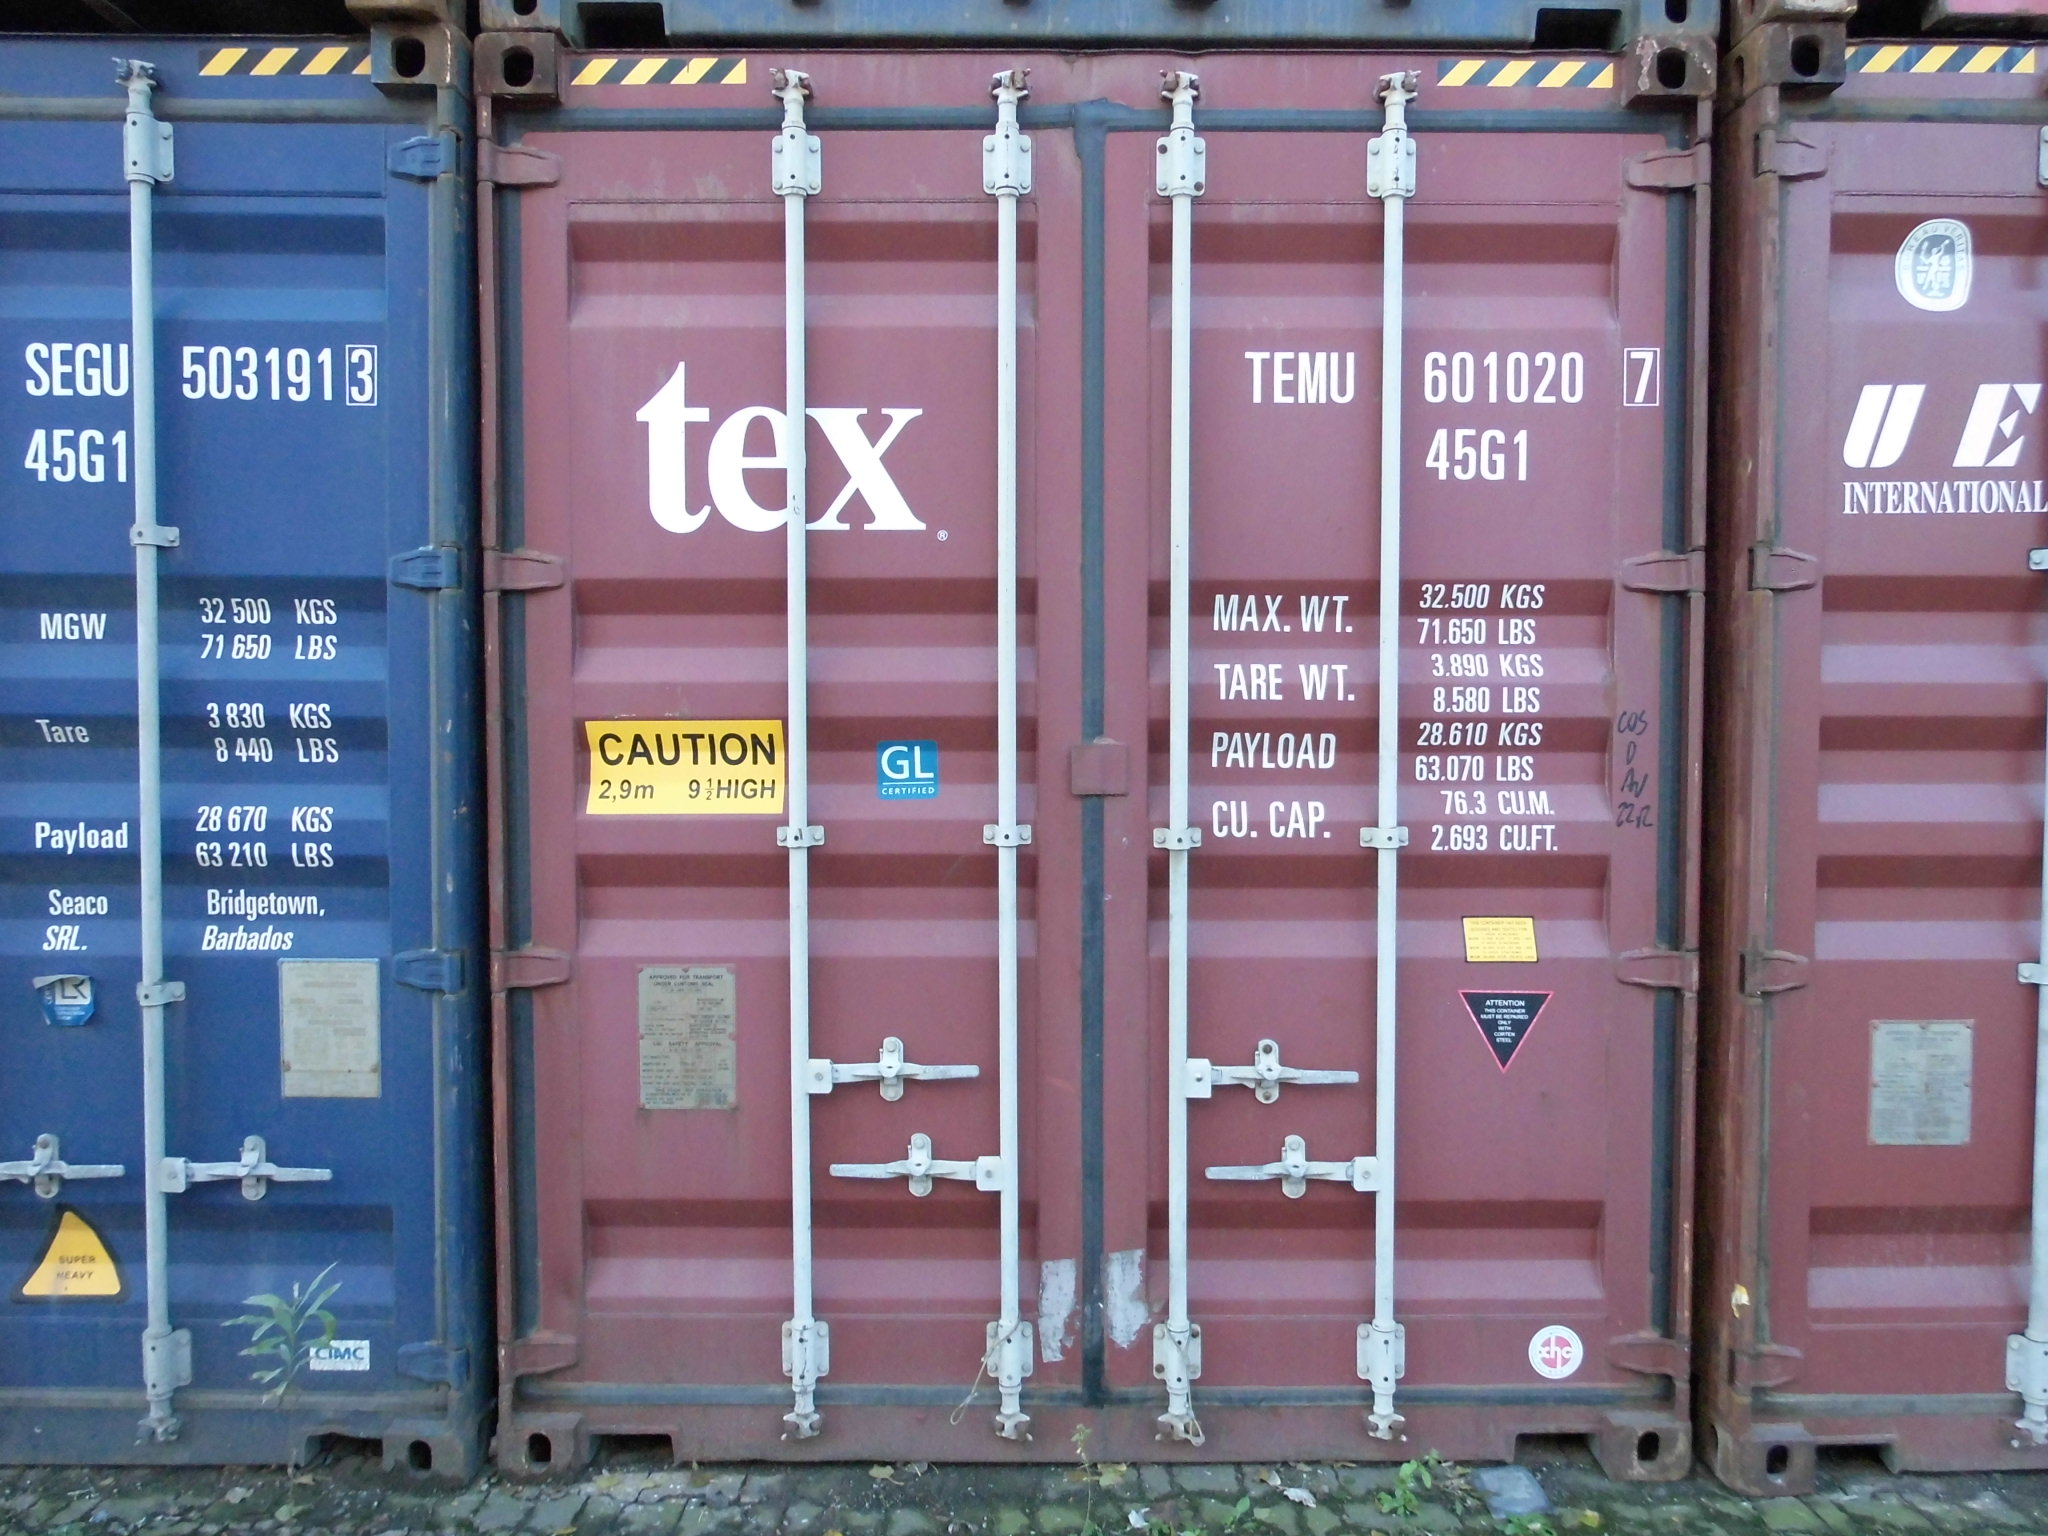container_door: (468, 27, 1701, 1480)
